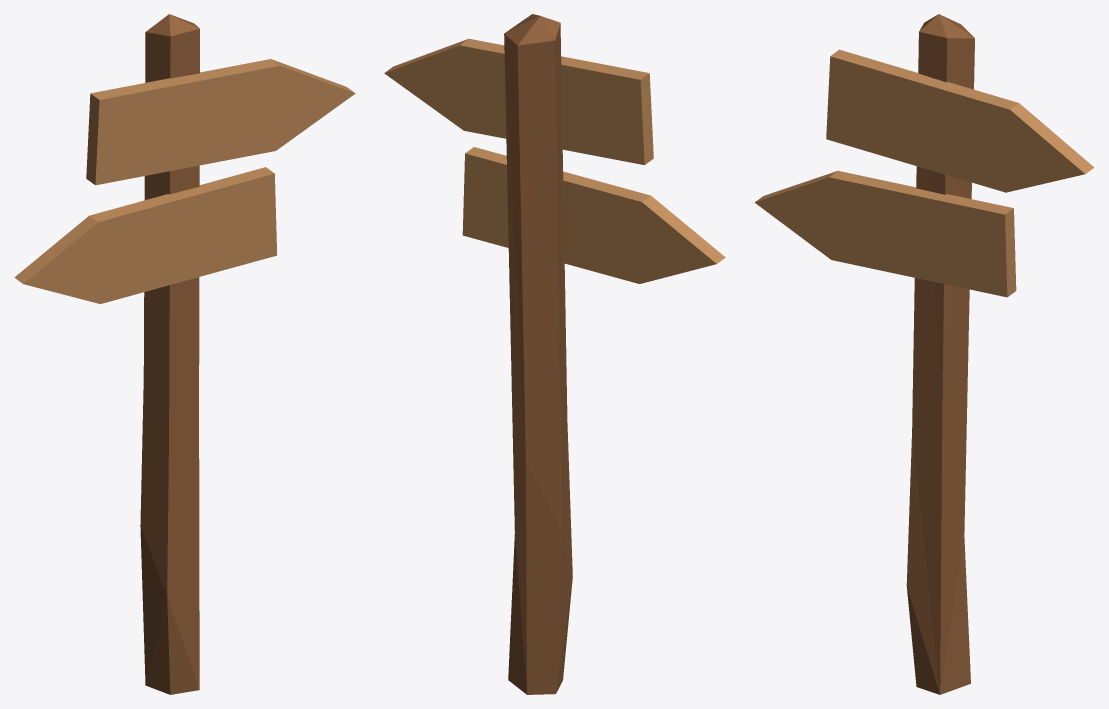
File: Pointer_03.fbx
3 views of the same model, side by side, from view 1: azimuth 30°, elevation 25°; view 2: azimuth 150°, elevation 25°; view 3: azimuth 330°, elevation 25° (orthographic).
Parts seen in each view (by area): view 1: Pointer_03; view 2: Pointer_03; view 3: Pointer_03.
Boxes of the visible parts, x1,y1,x2,y2 form: Pointer_03: [14, 14, 355, 694]; Pointer_03: [384, 14, 725, 694]; Pointer_03: [755, 14, 1093, 694].
Bounding box in the file's own units: 88.25 × 170 × 16.16.
